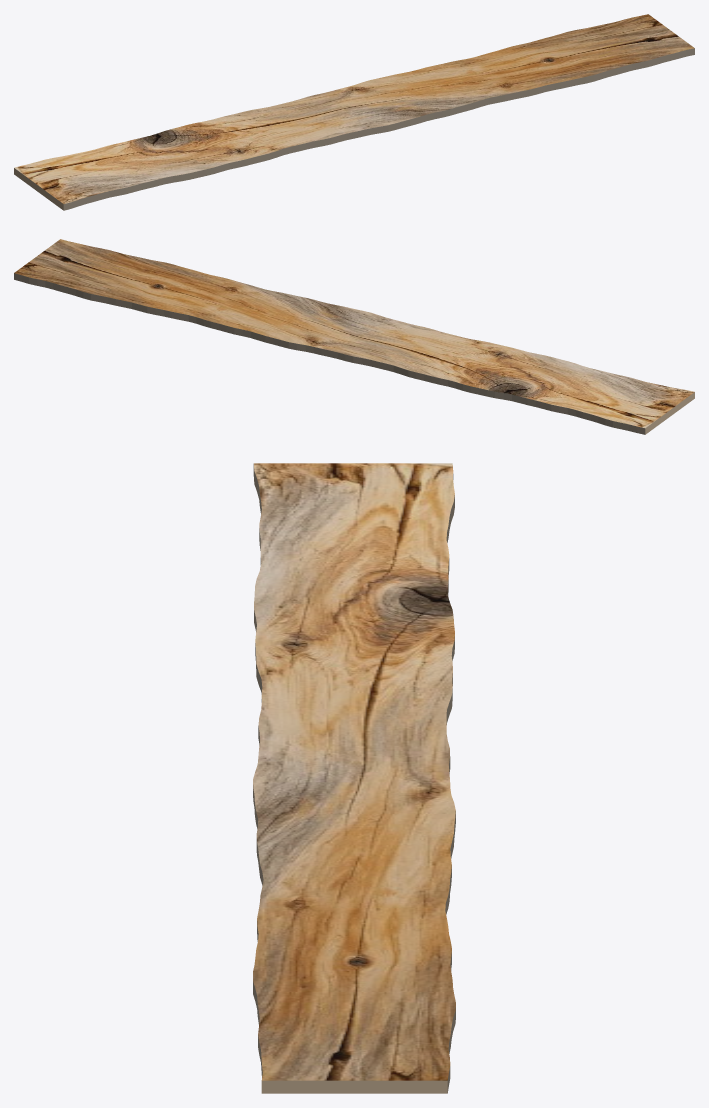
3 renders of one model, top to bottom at view 1: azimuth 30°, elevation 25°; view 2: azimuth 150°, elevation 25°; view 3: azimuth 270°, elevation 25°, orthographic. The views are drawn at different scales.
Visible parts, largest first — view 1: ST-001; view 2: ST-001; view 3: ST-001.
Part boxes in pixels (x1,y1,x2,y2): ST-001: (14, 14, 694, 210); ST-001: (14, 239, 694, 434); ST-001: (253, 463, 455, 1093).
Bounding box in the file's own units: 4 × 0.04 × 0.5567.
3 materials, 1 textured.
